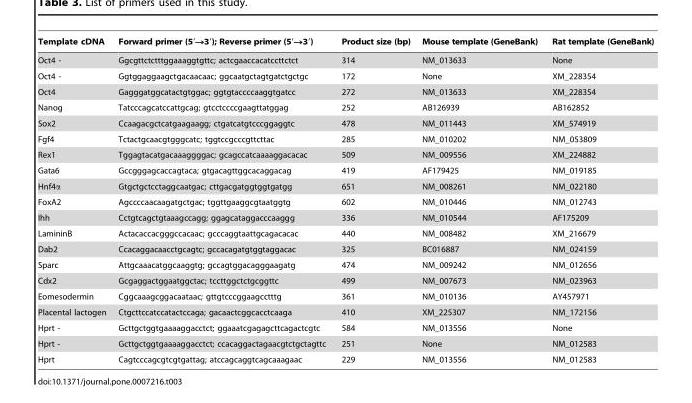table: (37, 36, 653, 363)
table column: (111, 36, 332, 363), (415, 36, 544, 363), (544, 36, 653, 363), (332, 36, 415, 363), (37, 36, 111, 363)
table column header: (37, 36, 653, 50)
table row: (37, 50, 653, 68), (37, 83, 653, 99), (37, 99, 653, 115), (37, 115, 653, 131), (37, 146, 653, 162), (37, 162, 653, 178), (37, 193, 653, 209), (37, 209, 653, 225), (37, 225, 653, 241), (37, 256, 653, 272), (37, 272, 653, 288), (37, 288, 653, 304), (37, 319, 653, 335), (37, 335, 653, 351), (37, 68, 653, 83), (37, 131, 653, 146), (37, 178, 653, 193), (37, 241, 653, 256), (37, 304, 653, 319), (37, 36, 653, 50), (37, 351, 653, 363)
